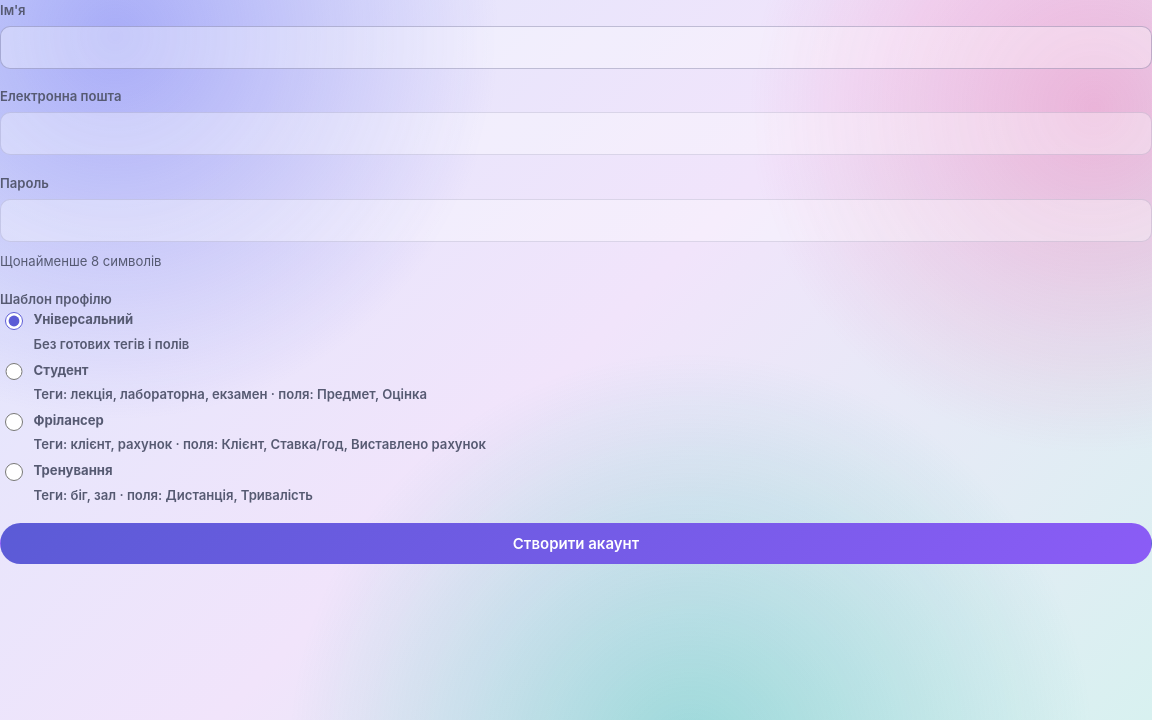
it: RegisterForm › rejects a short password and an empty name
Type "anna@example.com" into the field labelled "Електронна пошта" at x=576, y=134, box x1=0 y1=112 x2=1151 y2=155
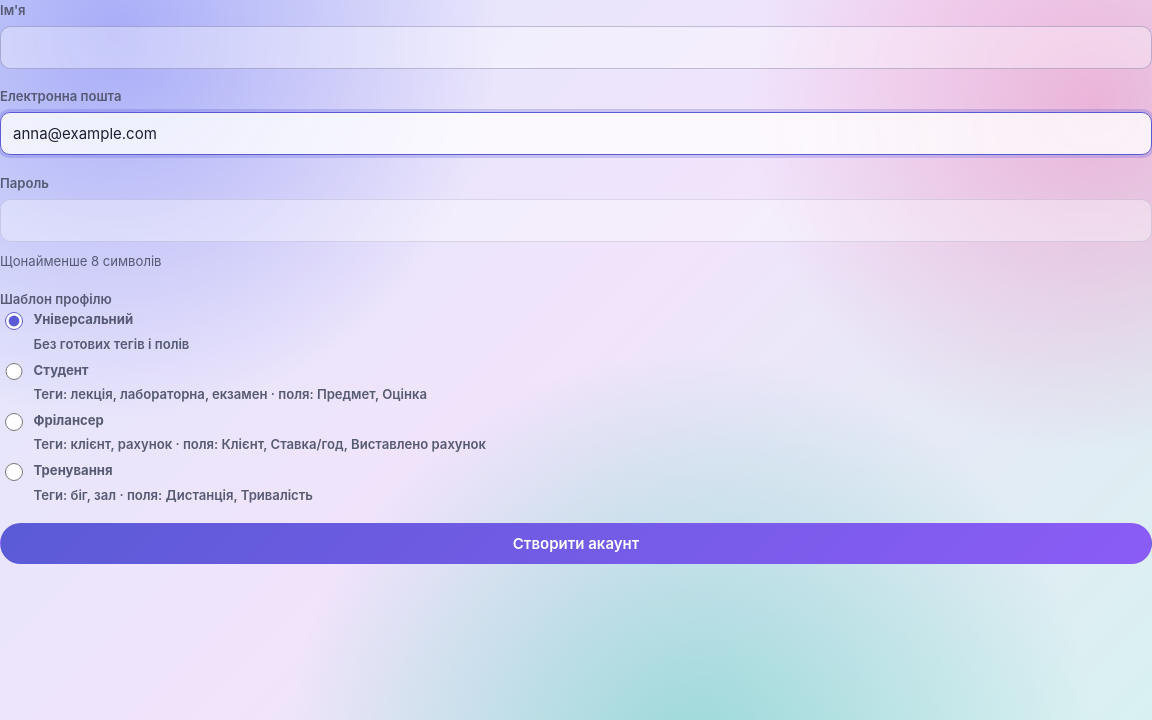
Type "1234567" into the password field labelled "Пароль" at x=576, y=220, box x1=0 y1=199 x2=1151 y2=242
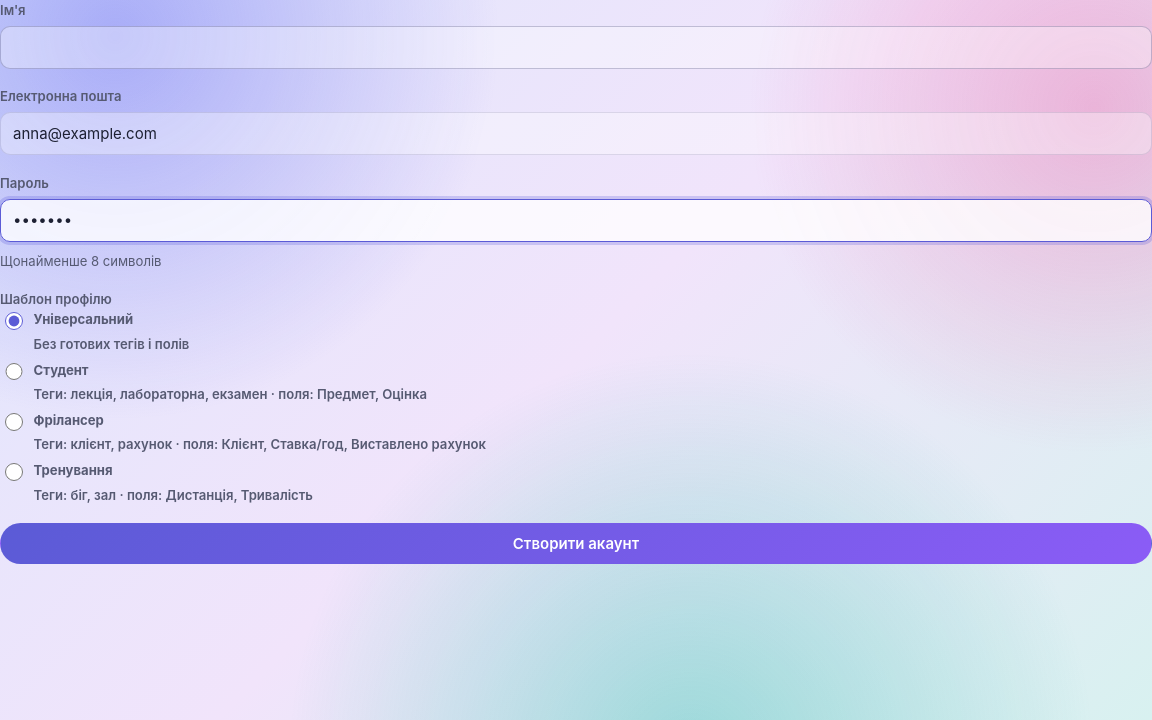
Click the button "Створити акаунт" at x=576, y=543, box x1=0 y1=522 x2=1151 y2=564
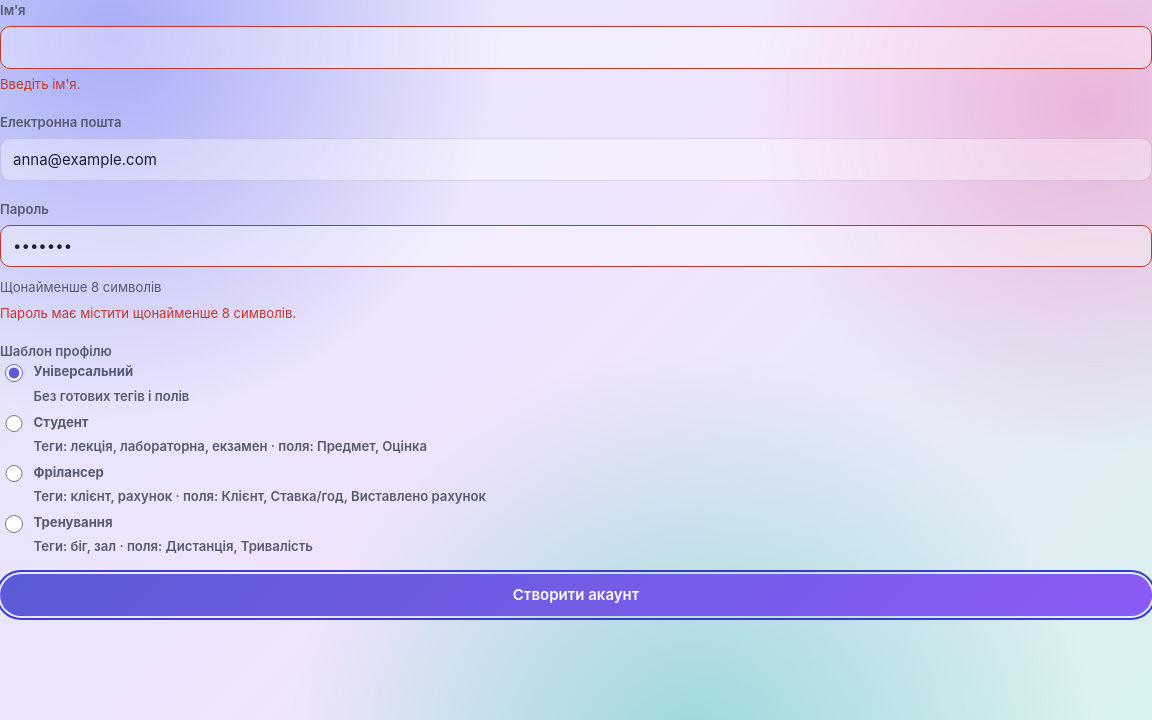
Check: the text "Введіть ім'я." is shown, box x1=0 y1=76 x2=80 y2=92
